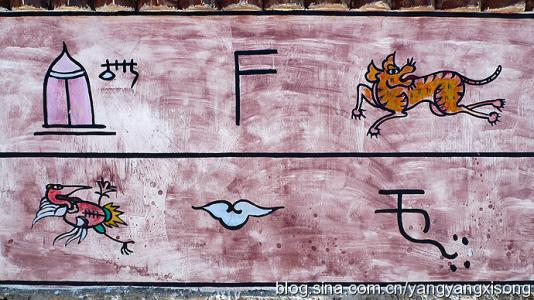naxi: (357, 42, 506, 138), (30, 33, 142, 146), (371, 181, 479, 277), (23, 176, 140, 257), (230, 45, 283, 129), (178, 193, 288, 233)
